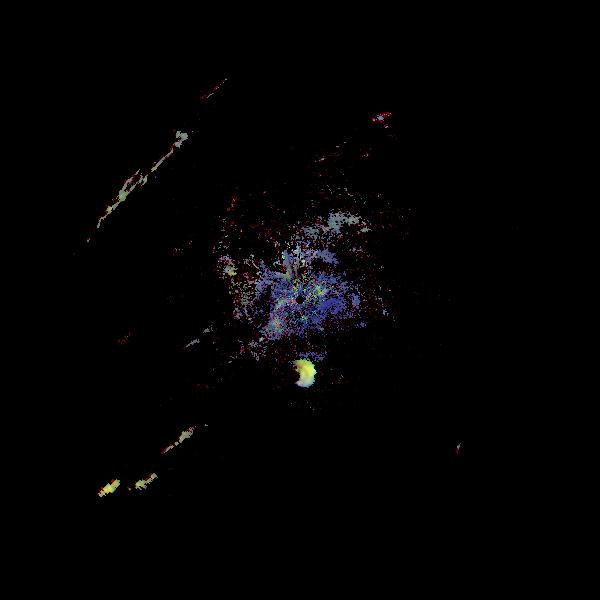roost: (280, 355, 319, 394), (456, 439, 480, 463)
